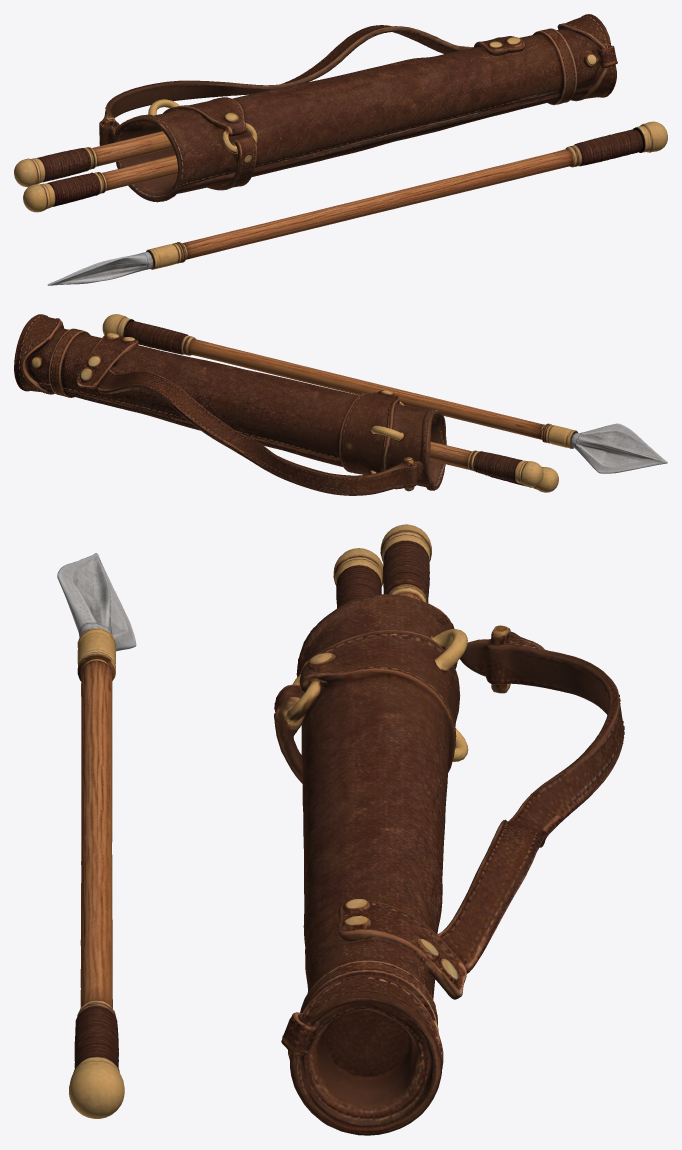
The model's file is Cirit.glb.
3 views of the same model, one above another, from view 1: azimuth 30°, elevation 25°; view 2: azimuth 150°, elevation 25°; view 3: azimuth 270°, elevation 25° (orthographic). The views are drawn at different scales.
Parts seen in each view (by area): view 1: tripo_node_396634b1-ac34-4eea-9a61-64d8b2a24626; view 2: tripo_node_396634b1-ac34-4eea-9a61-64d8b2a24626; view 3: tripo_node_396634b1-ac34-4eea-9a61-64d8b2a24626.
Part boxes in pixels (box(x1,y1,x2,y2)): tripo_node_396634b1-ac34-4eea-9a61-64d8b2a24626: box(14, 14, 667, 285); tripo_node_396634b1-ac34-4eea-9a61-64d8b2a24626: box(14, 314, 667, 495); tripo_node_396634b1-ac34-4eea-9a61-64d8b2a24626: box(57, 524, 624, 1135).
Size of the model in its own units: 0.9833 by 0.1302 by 0.4246.
Materials: 1 (1 with a texture image).
